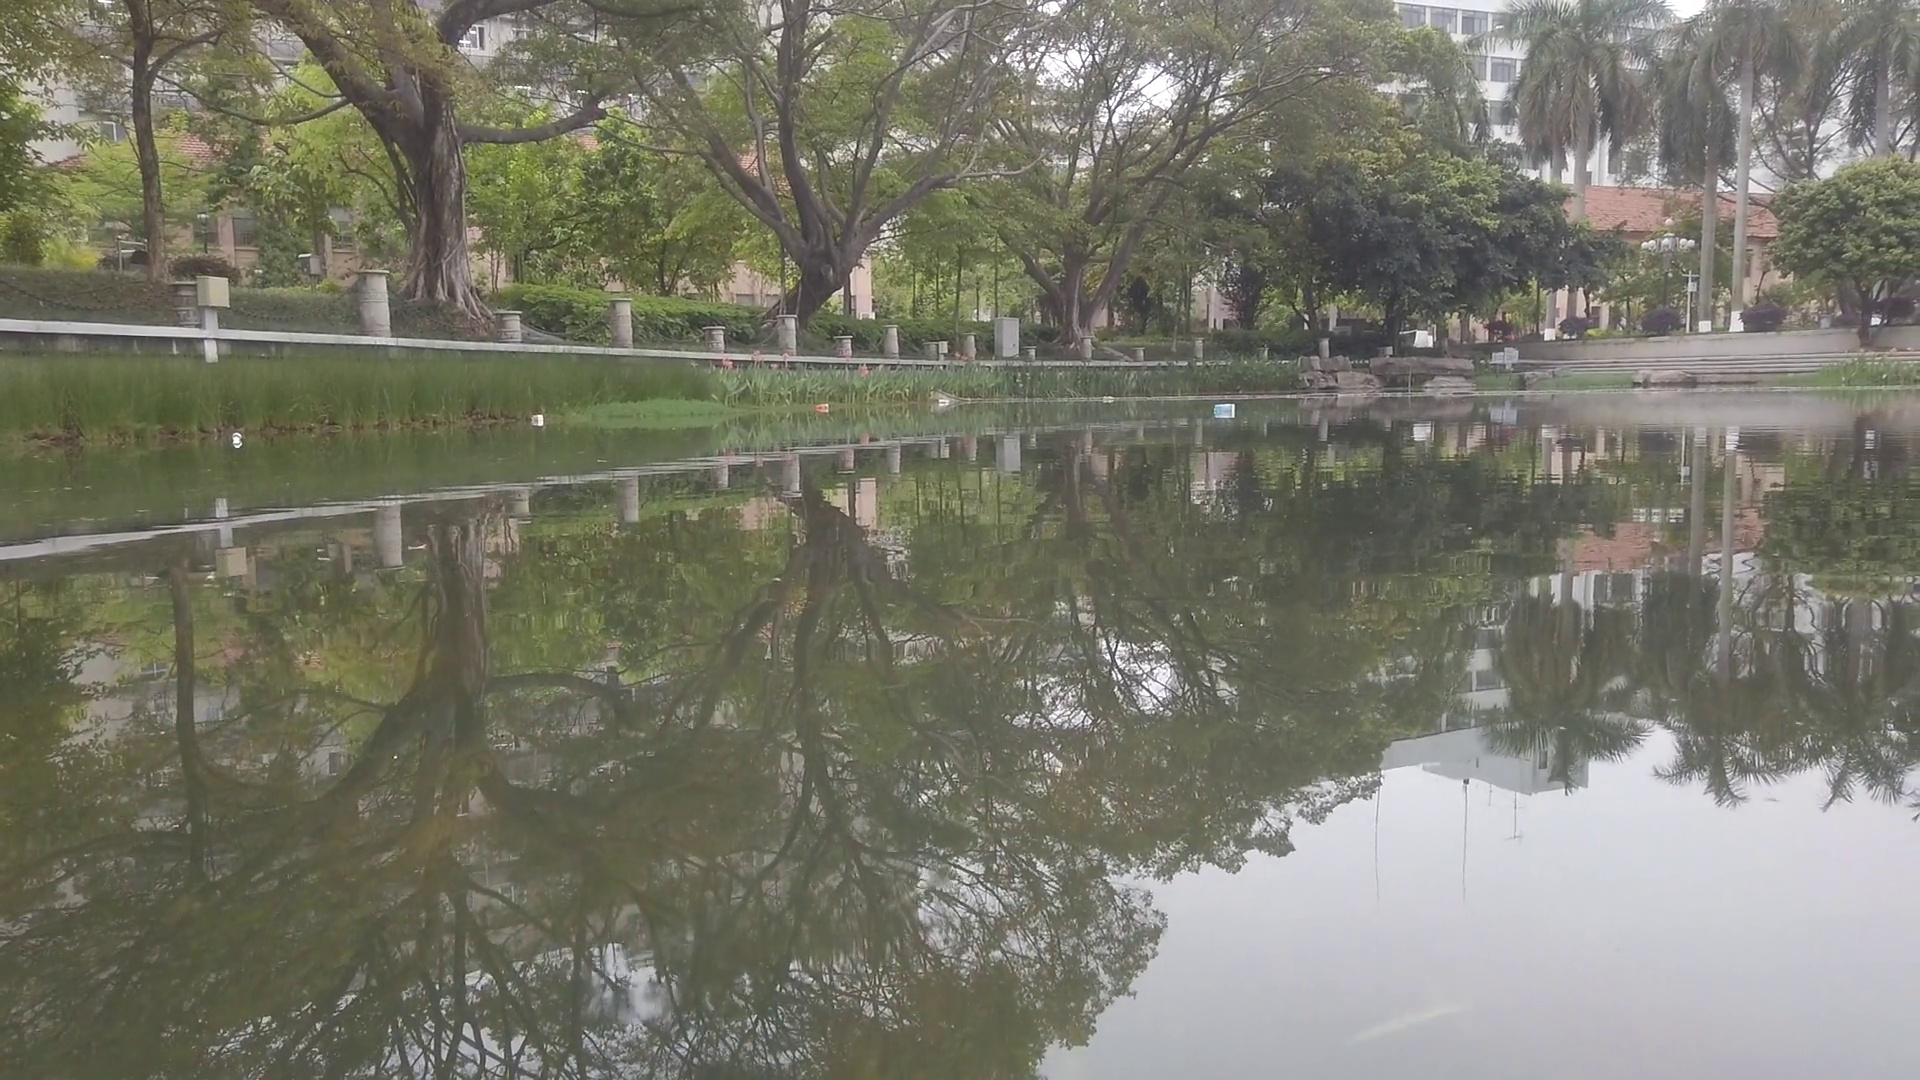bottle: (229, 433, 245, 444), (1101, 396, 1116, 402), (818, 404, 829, 411), (938, 398, 949, 405)
carton: (1215, 404, 1237, 418), (533, 414, 545, 425)
